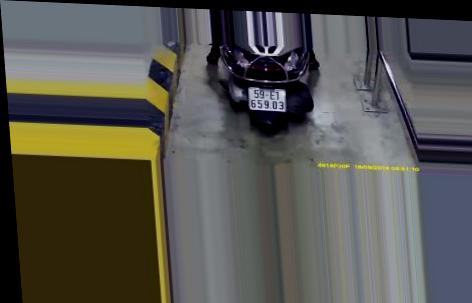License_Plate: (246, 84, 287, 115)
